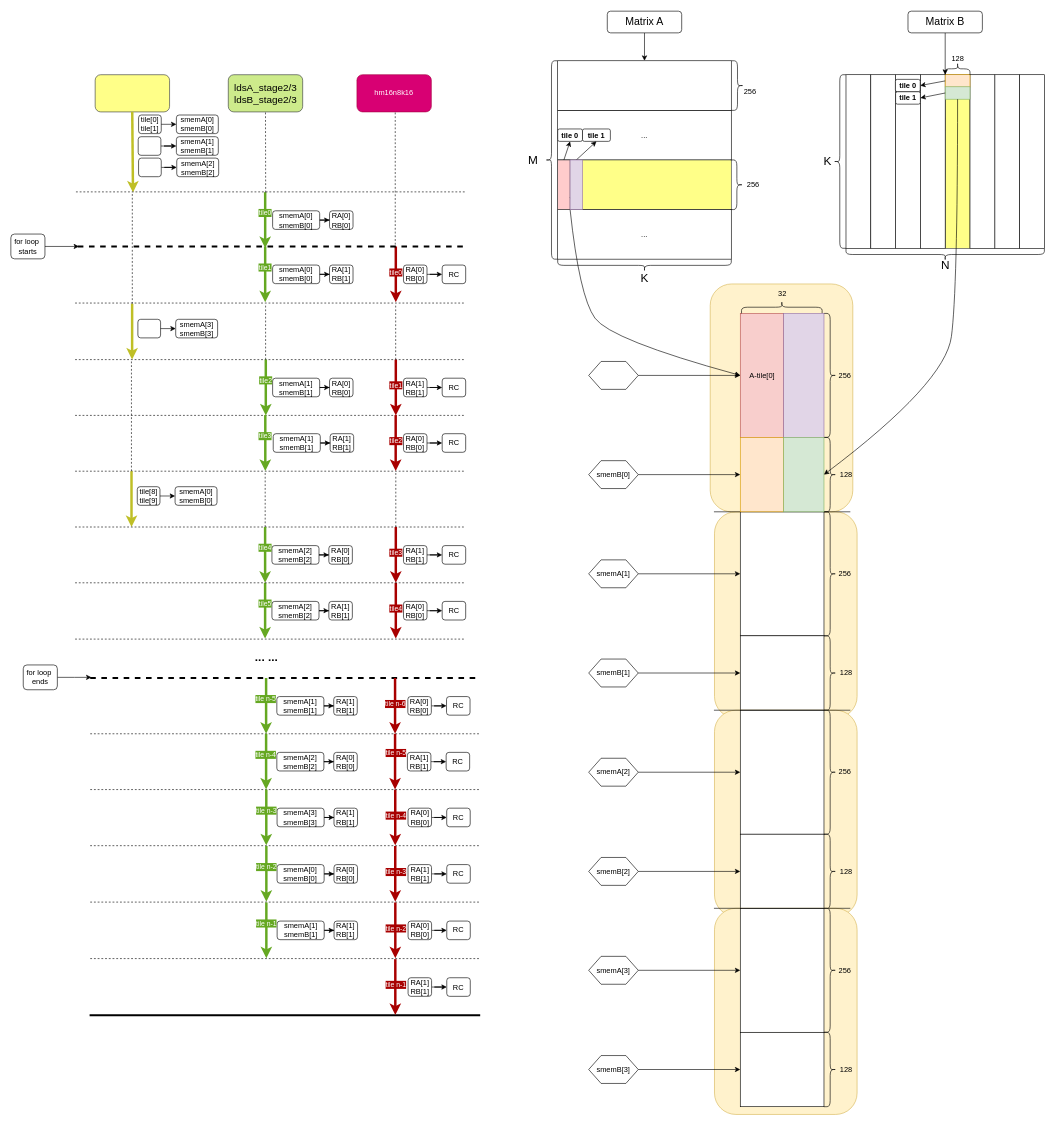
This 1055x1125 diagram has some shape labels left out. Here are the shapes that lost their labels. From the top down, the centre of each, then its label:
pixel 132 93: ldgstsA_stage ldgstsB_stage
pixel 149 145: tile[2] tile[3]
pixel 149 167: tile[4] tile[5]
pixel 149 328: tile[6] tile[7]
pixel 613 375: smemA[0]
pixel 803 375: A-tile[1]
pixel 762 474: B-tile[0]
pixel 803 474: B-tile[1]
